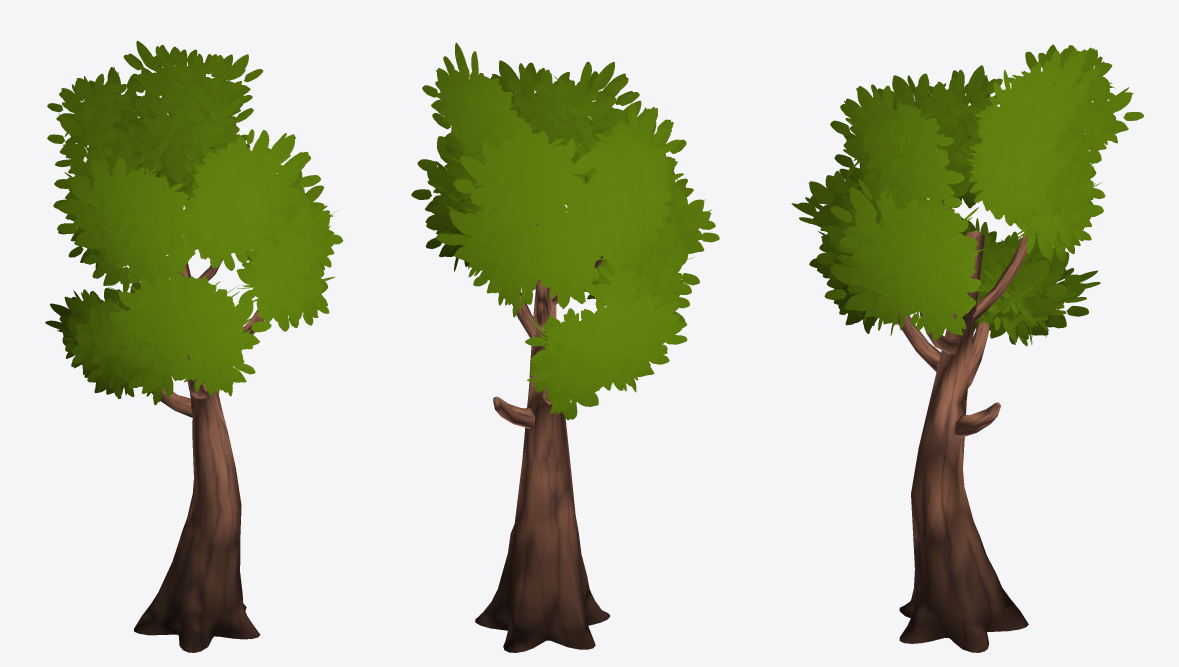
Rendered from CommonTree_5.gltf.
3 renders of one model, left to right at view 1: azimuth 30°, elevation 25°; view 2: azimuth 150°, elevation 25°; view 3: azimuth 270°, elevation 25°, orthographic. The views are drawn at different scales.
Visible parts, largest first — view 1: CommonTree_5_Foliage, CommonTree_5_Bark; view 2: CommonTree_5_Foliage, CommonTree_5_Bark; view 3: CommonTree_5_Foliage, CommonTree_5_Bark.
Part boxes in pixels (box(x1,y1,x2,y2)): CommonTree_5_Foliage: box(45, 40, 343, 405); CommonTree_5_Bark: box(126, 174, 264, 652); CommonTree_5_Foliage: box(411, 42, 719, 420); CommonTree_5_Bark: box(475, 119, 610, 652); CommonTree_5_Foliage: box(791, 44, 1143, 346); CommonTree_5_Bark: box(898, 133, 1028, 652).
Bounding box in the file's own units: 9.96 × 19 × 11.17.
2 materials, 2 textured.
